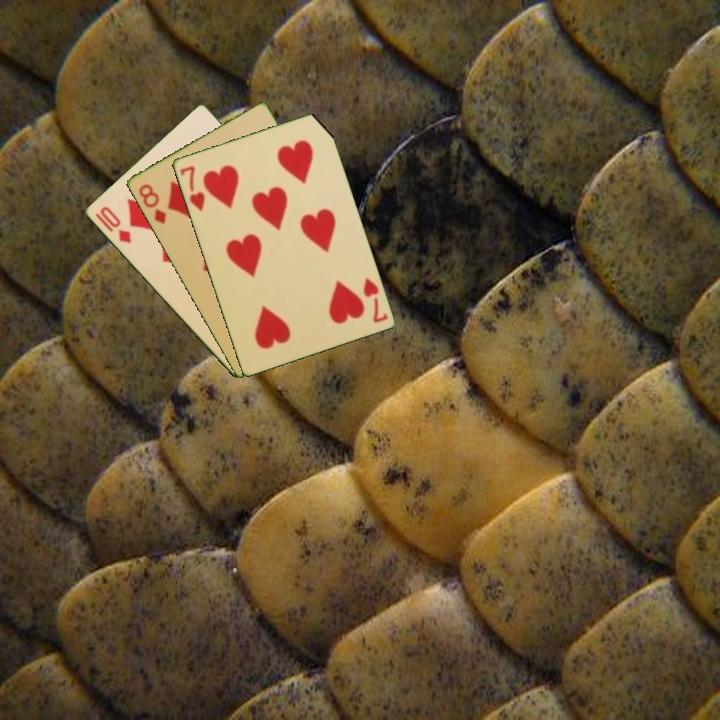10d: (96, 203, 134, 246)
7h: (176, 162, 208, 214), (359, 274, 390, 325)
8d: (135, 180, 169, 227)
